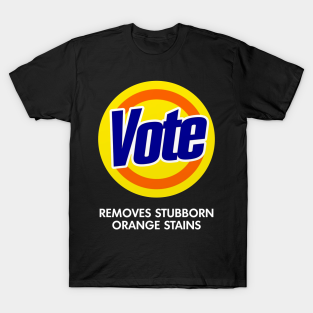design: (95, 77, 218, 232)
